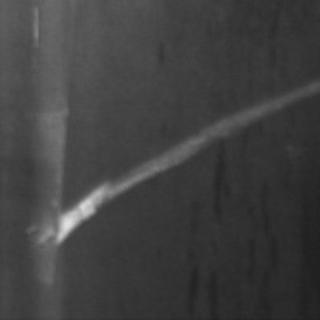scratches: (31, 82, 312, 248)
